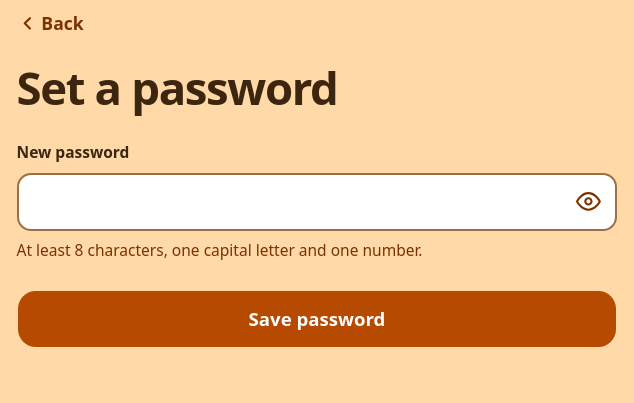
SetPasswordScreen › shows the en text for the answer AUTH_PASSWORD_ALREADY_SET inline
The image size is (634, 403).
Type "Sunce2026" into the password field labelled "New password" at (317, 202), box [16, 173, 618, 231]
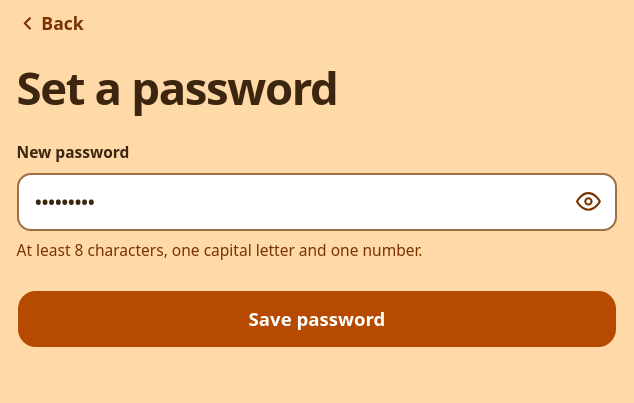
Click the button "Save password" at (317, 320), box [16, 290, 618, 348]
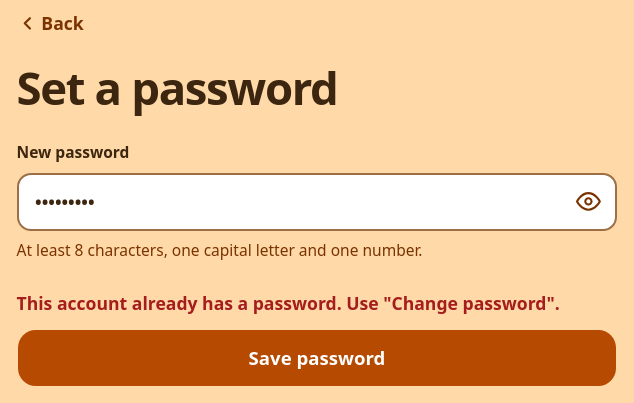
Expected: the message reads "This account already has a password. Use \"Change password\".", [16, 292, 560, 316]
